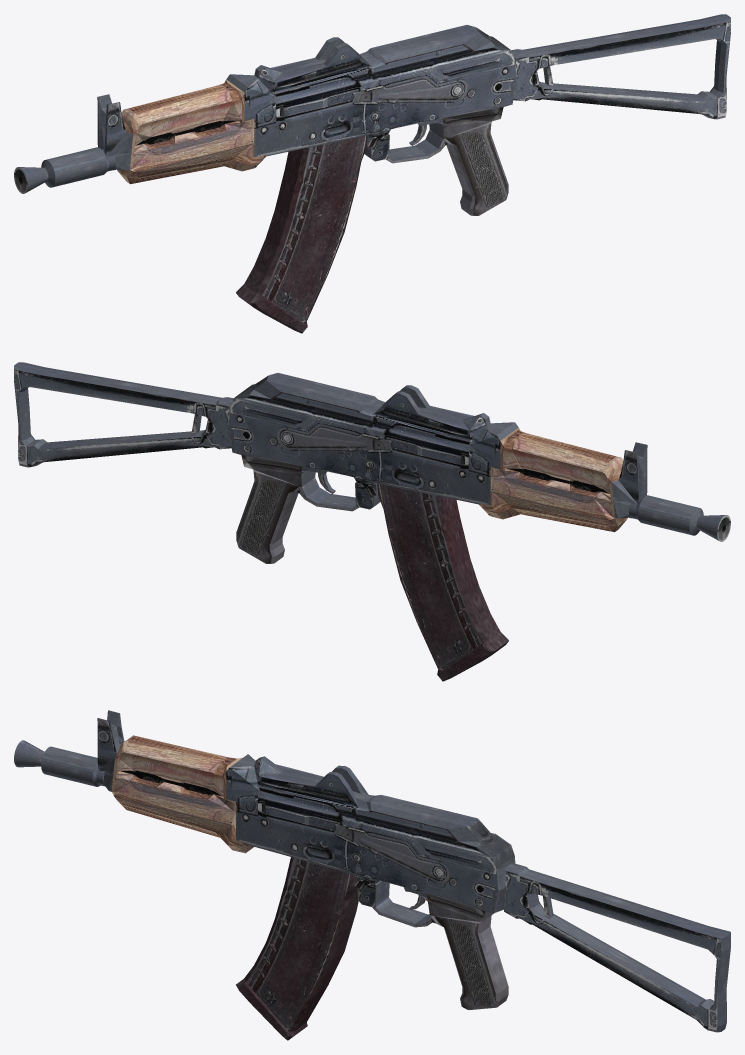
The model's file is w_aks74u.obj.
3 renders of one model, top to bottom at view 1: azimuth 30°, elevation 25°; view 2: azimuth 150°, elevation 25°; view 3: azimuth 330°, elevation 25°, orthographic.
Visible parts, largest first — view 1: w_aks74u_Plane; view 2: w_aks74u_Plane; view 3: w_aks74u_Plane.
Part boxes in pixels (x1=…): w_aks74u_Plane: x1=14, y1=14, x2=730, y2=333; w_aks74u_Plane: x1=14, y1=362, x2=730, y2=681; w_aks74u_Plane: x1=14, y1=710, x2=730, y2=1040.
Bounding box in the file's own units: 11.19 × 4.17 × 0.599.
